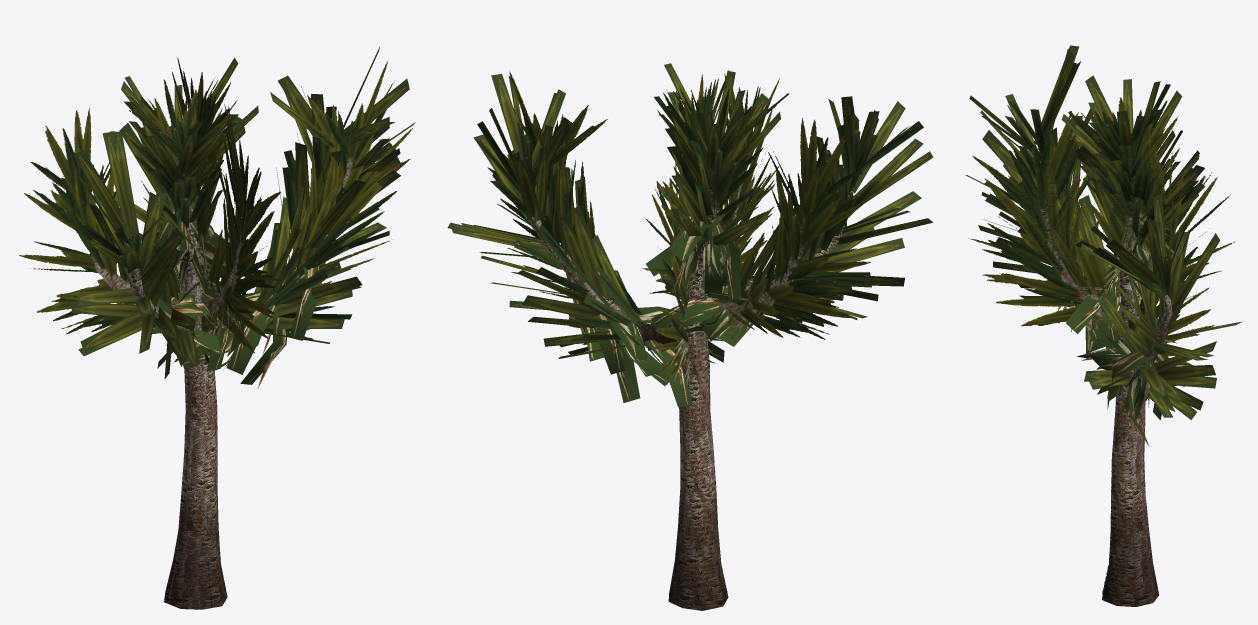
Rendered from Yucca1.fbx.
The picture shows the model from 3 angles, left to right: view 1: azimuth 30°, elevation 25°; view 2: azimuth 150°, elevation 25°; view 3: azimuth 270°, elevation 25°; orthographic projection. The views are drawn at different scales.
Parts seen in each view (by area): view 1: LOD0, Billboard; view 2: LOD0, Billboard; view 3: LOD0, Billboard.
Boxes of the visible parts, left/top/right/bottom form: LOD0: left=71, top=46, right=415, bottom=609; Billboard: left=19, top=57, right=414, bottom=607; LOD0: left=447, top=63, right=933, bottom=610; Billboard: left=487, top=70, right=870, bottom=603; LOD0: left=965, top=45, right=1242, bottom=606; Billboard: left=968, top=97, right=1235, bottom=594.
Size of what is drawn, in the model's own units: 262 by 329 by 168.
